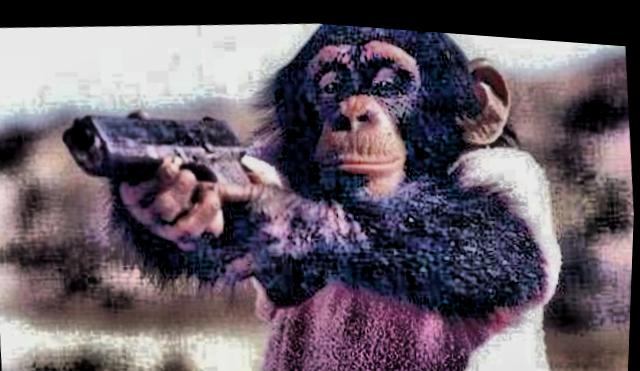pistol: (57, 95, 257, 199)
